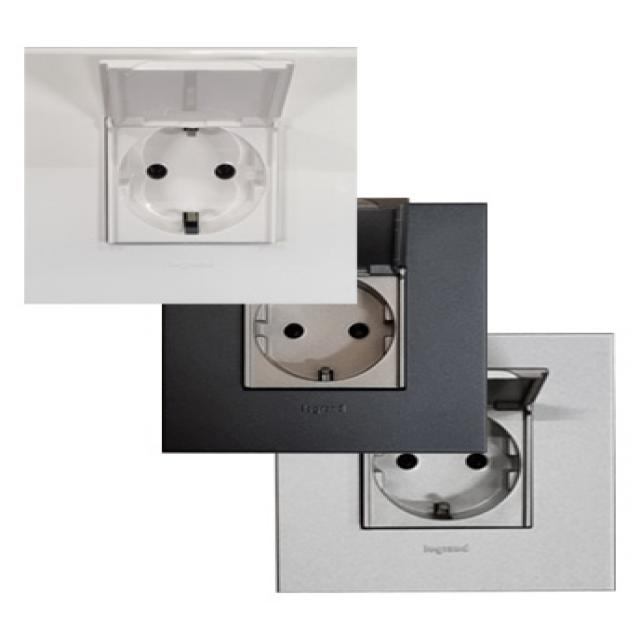typeb: (9, 36, 332, 300), (216, 286, 457, 417), (337, 428, 574, 546)
